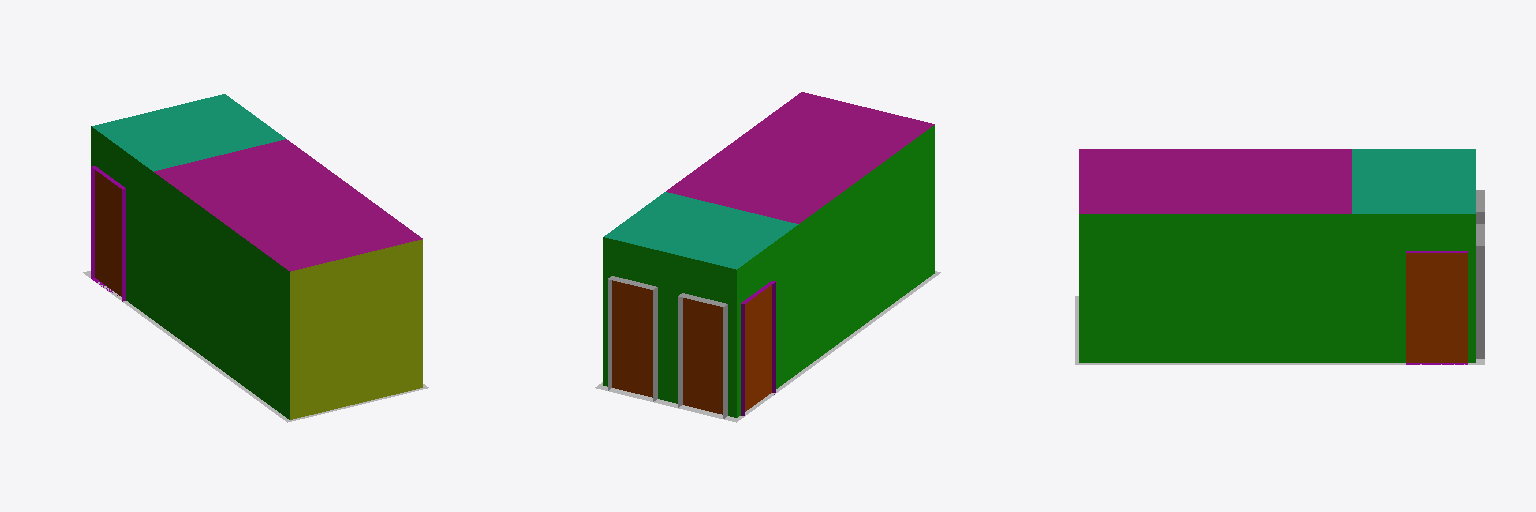
3 renders of one model, left to right at view 1: azimuth 30°, elevation 25°; view 2: azimuth 150°, elevation 25°; view 3: azimuth 270°, elevation 25°, orthographic.
Visible parts, largest first — view 1: target_fp_1_rmd_Plane.010, source_floorplan_Plane.007; view 2: target_fp_1_rmd_Plane.010, source_floorplan_Plane.007; view 3: target_fp_1_rmd_Plane.010, source_floorplan_Plane.007.
Part boxes in pixels (x1,y1,x2,y2): target_fp_1_rmd_Plane.010: (91,94,422,419); source_floorplan_Plane.007: (83,271,428,422); target_fp_1_rmd_Plane.010: (603,92,934,418); source_floorplan_Plane.007: (595,271,940,422); target_fp_1_rmd_Plane.010: (1079,149,1484,364); source_floorplan_Plane.007: (1075,296,1484,364).
Bounding box in the file's own units: 4 × 4 × 10.